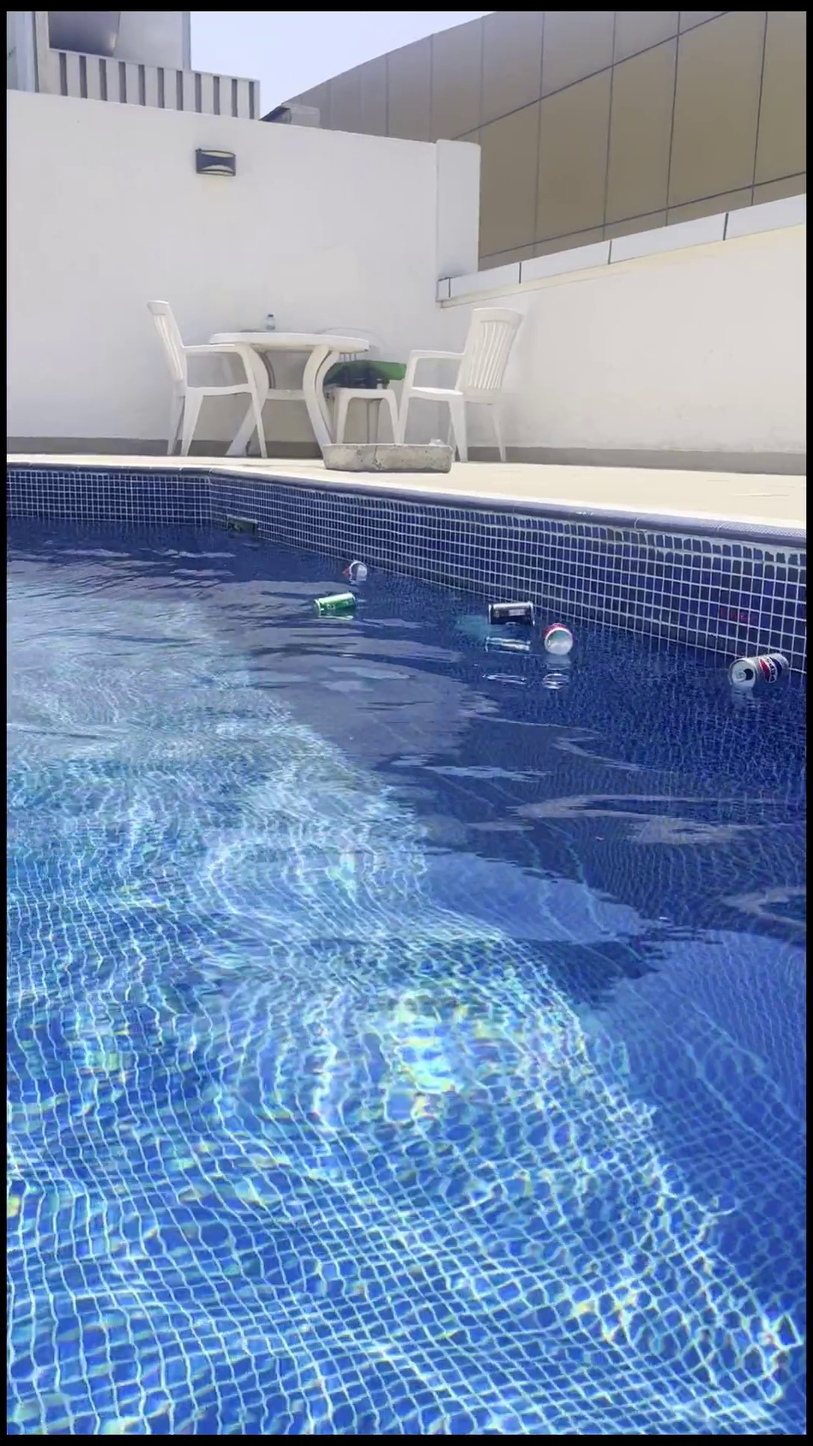debris: (725, 622, 789, 718), (483, 586, 532, 651), (310, 582, 357, 627), (537, 606, 570, 665), (338, 546, 365, 590)
